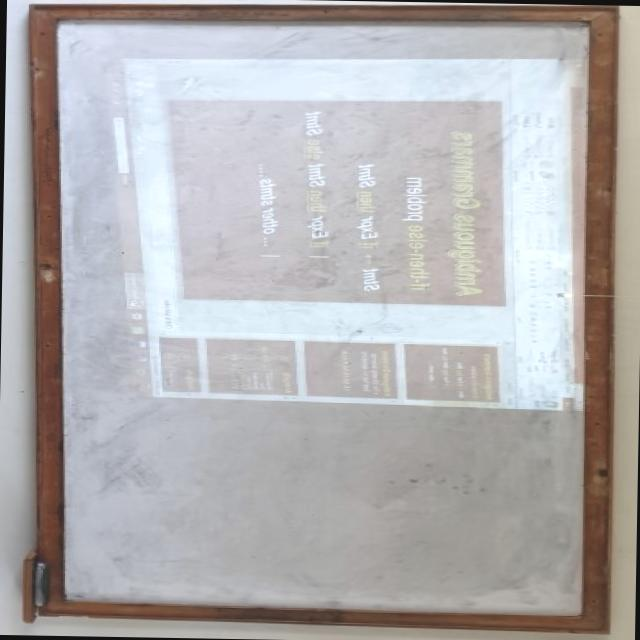Slide: (91, 60, 594, 411)
White-board: (41, 11, 606, 626)
